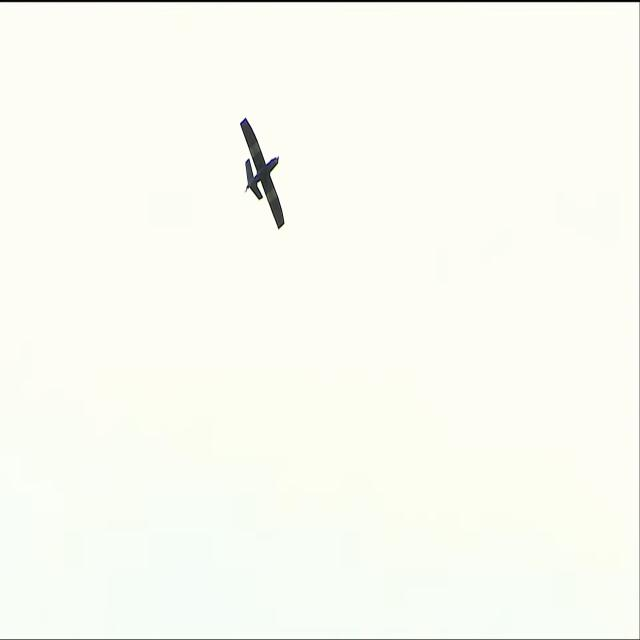iha: (238, 147, 285, 198)
